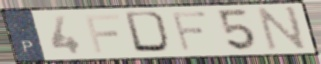4: (49, 14, 84, 56)
5: (215, 7, 260, 53)
D: (122, 10, 175, 56)
F: (169, 9, 211, 53), (82, 13, 123, 55)
N: (257, 5, 310, 53)
